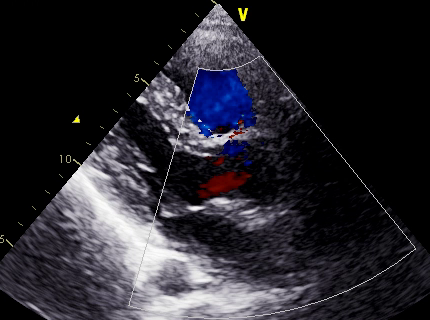AR: (191, 143, 266, 211)
